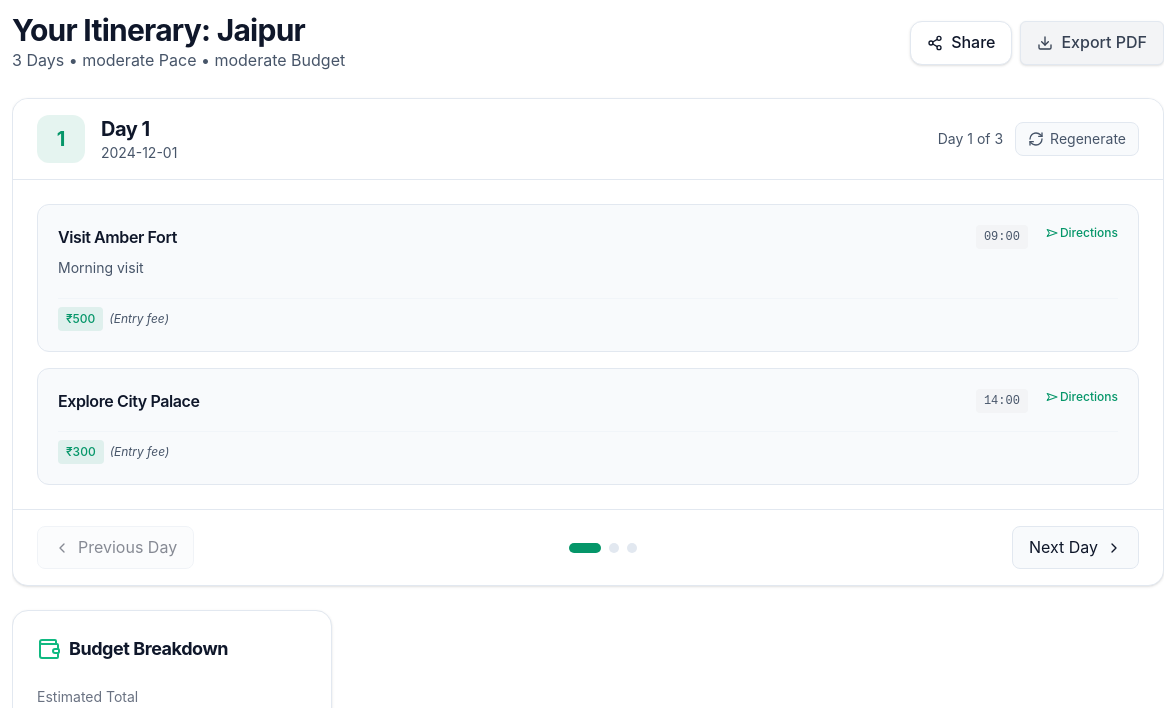
Test case: ItineraryView › navigates to specific day when clicking pagination dot
Click the button named "Go to Day 3": (632, 548) [627,543,637,553]
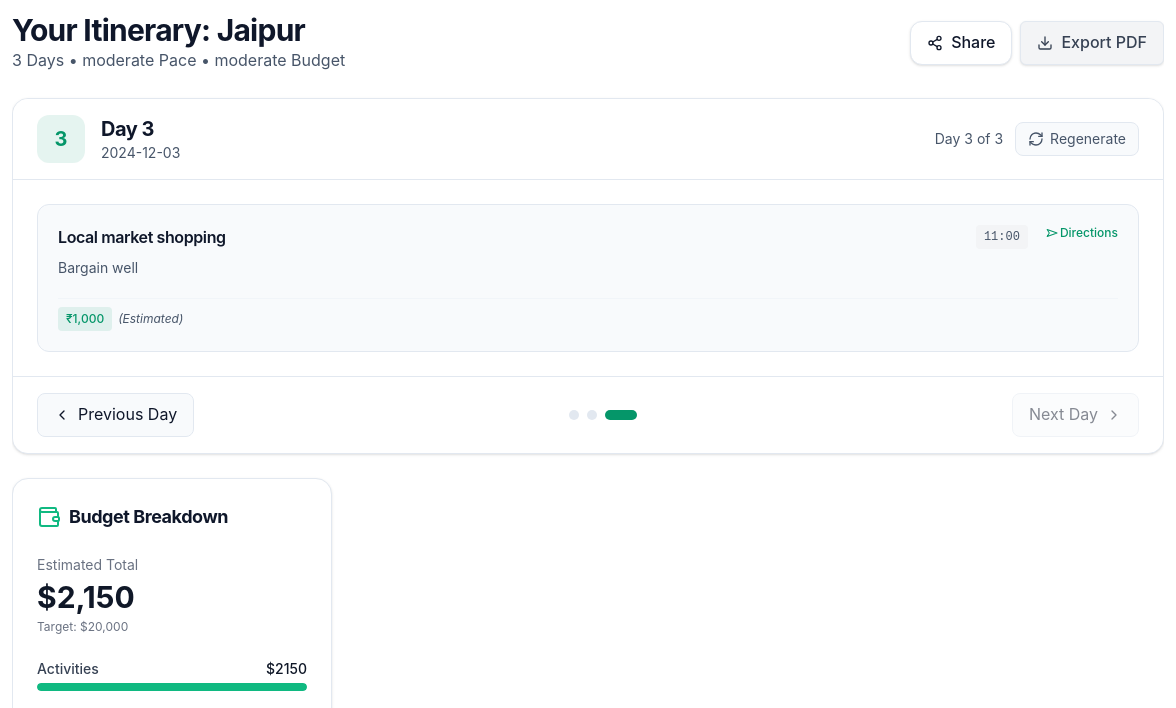
Expected: the heading "Day 3" is shown, [101,117,154,141]
Expected: the heading "Local market shopping" is shown, [58,227,226,247]
